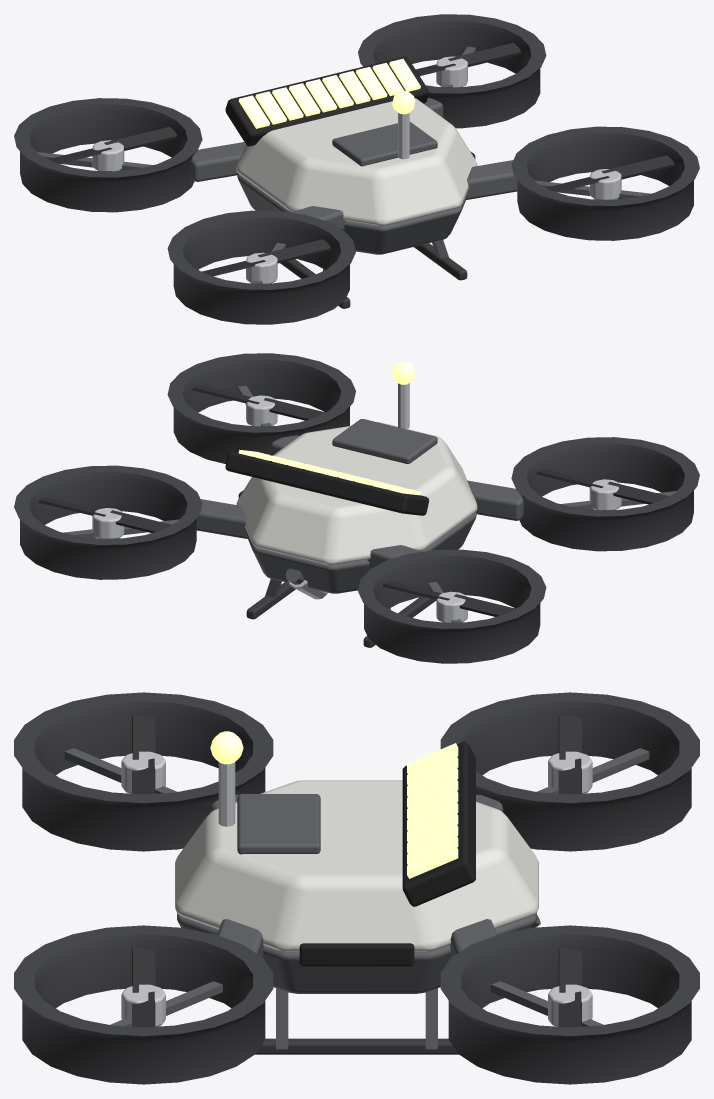
File: marshal.glb
3 views of the same model, one above another, from view 1: azimuth 30°, elevation 25°; view 2: azimuth 150°, elevation 25°; view 3: azimuth 270°, elevation 25° (orthographic). The views are drawn at different scales.
Visible parts, largest first — view 1: Body, Rotor2, Rotor3, Rotor0, Rotor1, BarSeg1, BarSeg6, BarSeg2, BarSeg3, BarSeg5, BarSeg7, BarSeg9 (+3 smaller); view 2: Body, Rotor1, Rotor3, Rotor2, Rotor0; view 3: Body, Rotor0, Rotor1, Rotor2, Rotor3, Beacon, BarSeg9, BarSeg0, BarSeg3, BarSeg1, BarSeg2, BarSeg5 (+4 smaller).
Boxes of the visible parts, x1=… form: Body: x1=14, y1=14, x2=699, y2=324; Rotor2: x1=202, y1=239, x2=330, y2=276; Rotor3: x1=546, y1=155, x2=674, y2=192; Rotor0: x1=48, y1=127, x2=177, y2=163; Rotor1: x1=415, y1=43, x2=521, y2=75; BarSeg1: x1=255, y1=91, x2=286, y2=124; BarSeg6: x1=339, y1=71, x2=370, y2=104; BarSeg2: x1=272, y1=87, x2=303, y2=120; BarSeg3: x1=289, y1=83, x2=320, y2=116; BarSeg5: x1=322, y1=75, x2=353, y2=108; BarSeg7: x1=355, y1=67, x2=387, y2=100; BarSeg9: x1=389, y1=58, x2=420, y2=91; Body: x1=14, y1=353, x2=699, y2=663; Rotor1: x1=39, y1=497, x2=171, y2=532; Rotor3: x1=192, y1=384, x2=324, y2=420; Rotor2: x1=536, y1=468, x2=668, y2=504; Rotor0: x1=383, y1=581, x2=515, y2=616; Body: x1=14, y1=692, x2=699, y2=1084; Rotor0: x1=558, y1=714, x2=581, y2=794; Rotor1: x1=558, y1=947, x2=581, y2=1027; Rotor2: x1=132, y1=714, x2=155, y2=794; Rotor3: x1=132, y1=947, x2=155, y2=1027; Beacon: x1=210, y1=731, x2=243, y2=764; BarSeg9: x1=407, y1=845, x2=458, y2=878; BarSeg0: x1=407, y1=743, x2=458, y2=774; BarSeg3: x1=407, y1=777, x2=458, y2=808; BarSeg1: x1=407, y1=754, x2=458, y2=785; BarSeg2: x1=407, y1=766, x2=458, y2=796; BarSeg5: x1=407, y1=800, x2=458, y2=830.
Bounding box in the file's own units: 0.782 × 0.298 × 0.6594.
